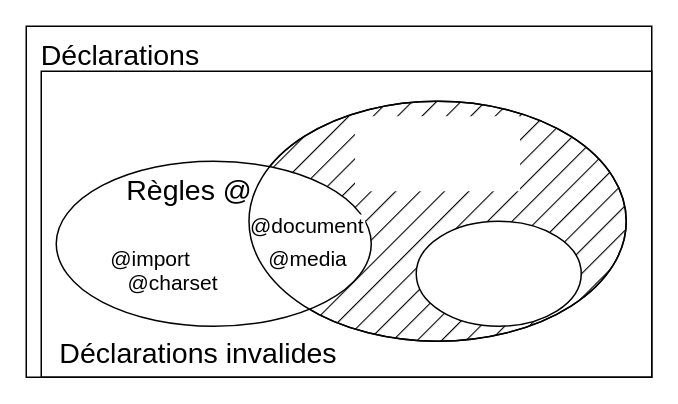
This 678x404 diagram has some shape labels left out. Here are the shapes that lost their labels. From the top down, the centre of each, then its label:
(436,153): Déclarations imbriquées
(498,273): Jeu de règles
